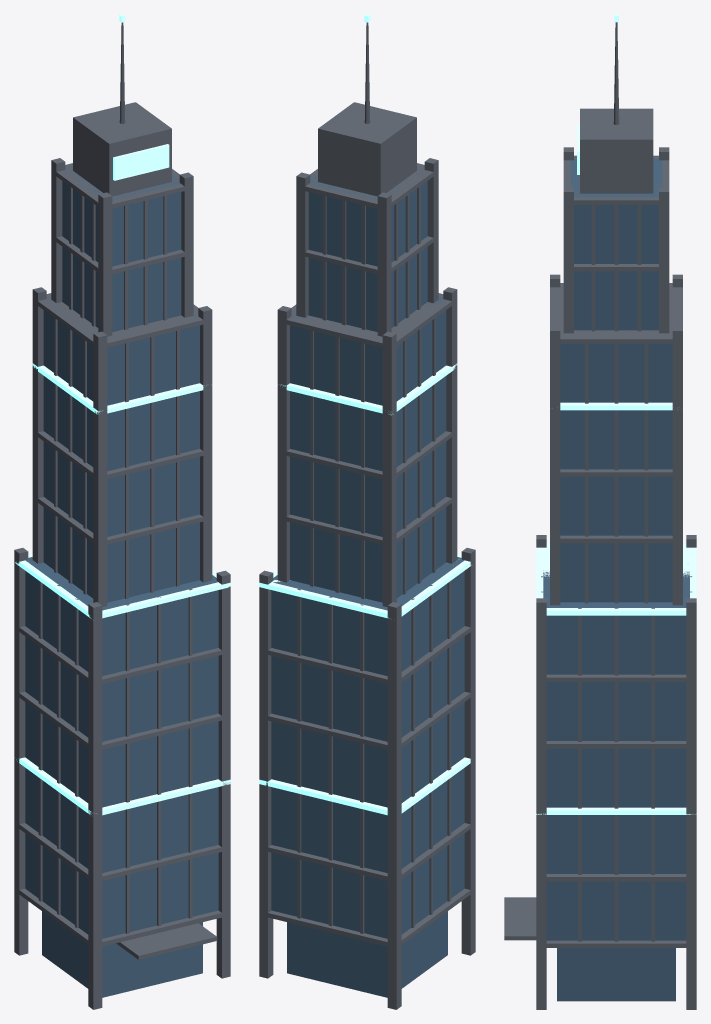
The model's file is tower_d.glb.
The picture shows the model from 3 angles, left to right: view 1: azimuth 30°, elevation 25°; view 2: azimuth 150°, elevation 25°; view 3: azimuth 270°, elevation 25°; orthographic projection.
Parts seen in each view (by area): view 1: tower_d; view 2: tower_d; view 3: tower_d.
Part boxes in pixels (bbox=[...]): tower_d: bbox=[14, 14, 230, 1009]; tower_d: bbox=[259, 14, 475, 1009]; tower_d: bbox=[504, 14, 696, 1009].
Size of the model in its own units: 7 by 46.25 by 8.4.
